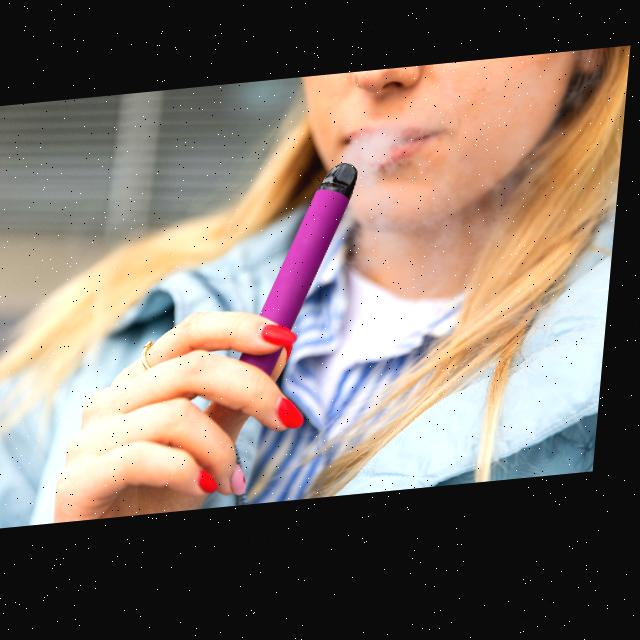vape: (244, 170, 362, 385)
